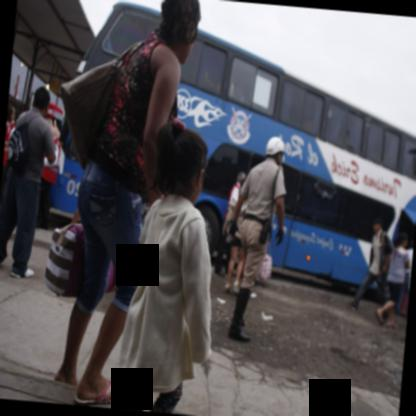backpack: (6, 123, 29, 177)
handbag: (60, 41, 139, 172), (43, 212, 117, 297)
suitcase: (44, 209, 117, 298), (258, 253, 272, 280)
